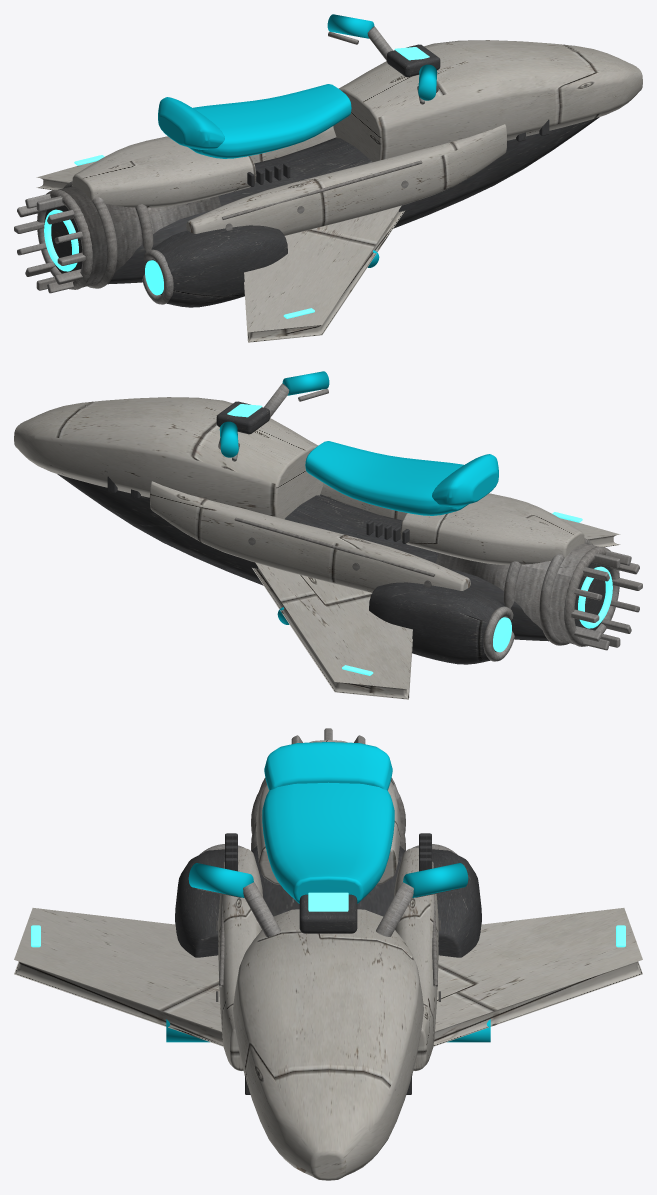
Rendered from HoverBike_MML_Body.glb.
3 renders of one model, top to bottom at view 1: azimuth 30°, elevation 25°; view 2: azimuth 150°, elevation 25°; view 3: azimuth 270°, elevation 25°, orthographic. The views are drawn at different scales.
Visible parts, largest first — view 1: SM_Boneyard_HoverBike; view 2: SM_Boneyard_HoverBike; view 3: SM_Boneyard_HoverBike.
Boxes of the visible parts, x1,y1,x2,y2 form: SM_Boneyard_HoverBike: (14, 14, 642, 342); SM_Boneyard_HoverBike: (14, 371, 642, 699); SM_Boneyard_HoverBike: (14, 728, 642, 1180).
Bounding box in the file's own units: 3.35 × 1 × 2.17.
Materials: 4 (2 with a texture image).
